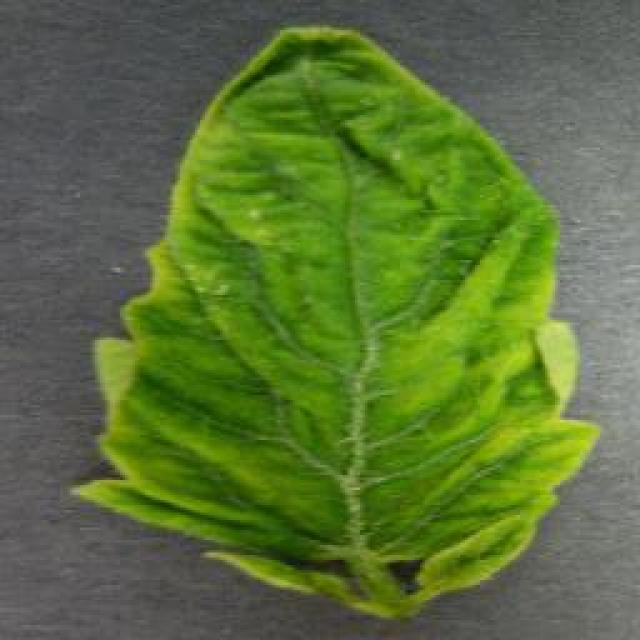Tom_Yellow_Leaf_Curl_Virus: (136, 71, 536, 590)
